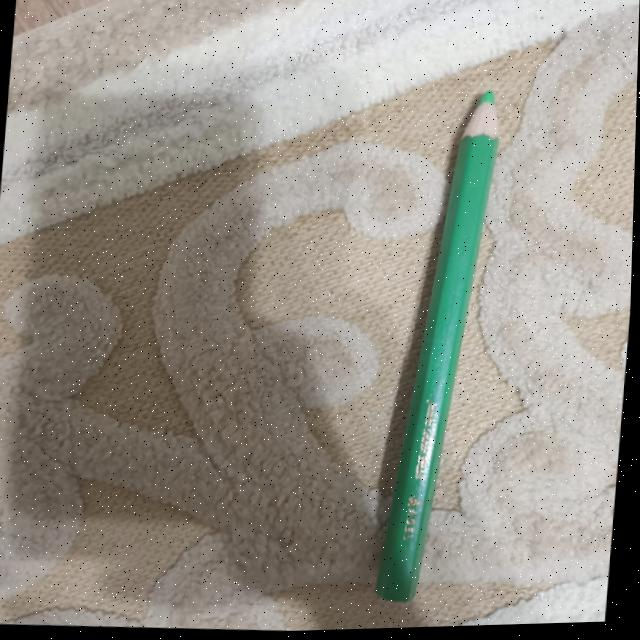pencil: (361, 86, 512, 614)
